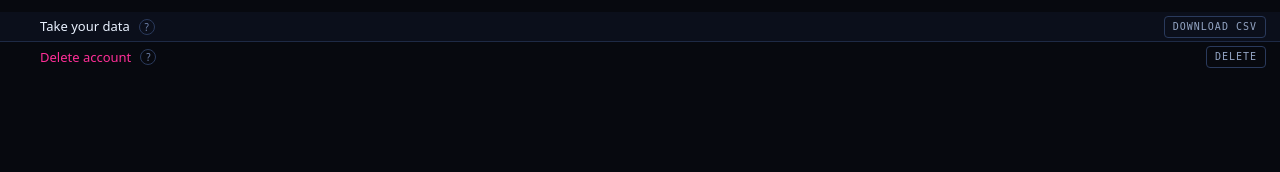
it: AccountData › удаление спрятано за подтверждением, а не висит кнопкой
Click the button "Delete": (1236, 57) left=1206, top=46, right=1266, bottom=68
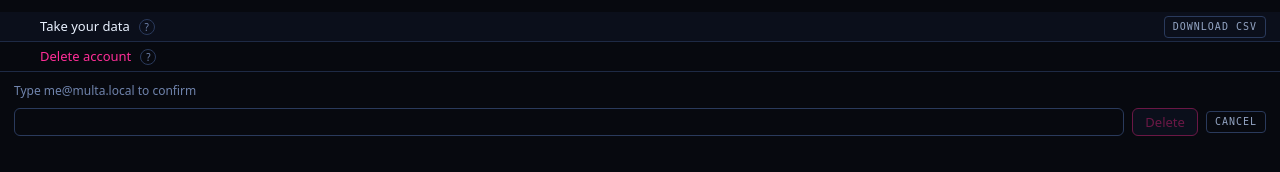
Expected: the field is shown, left=14, top=108, right=1124, bottom=136
